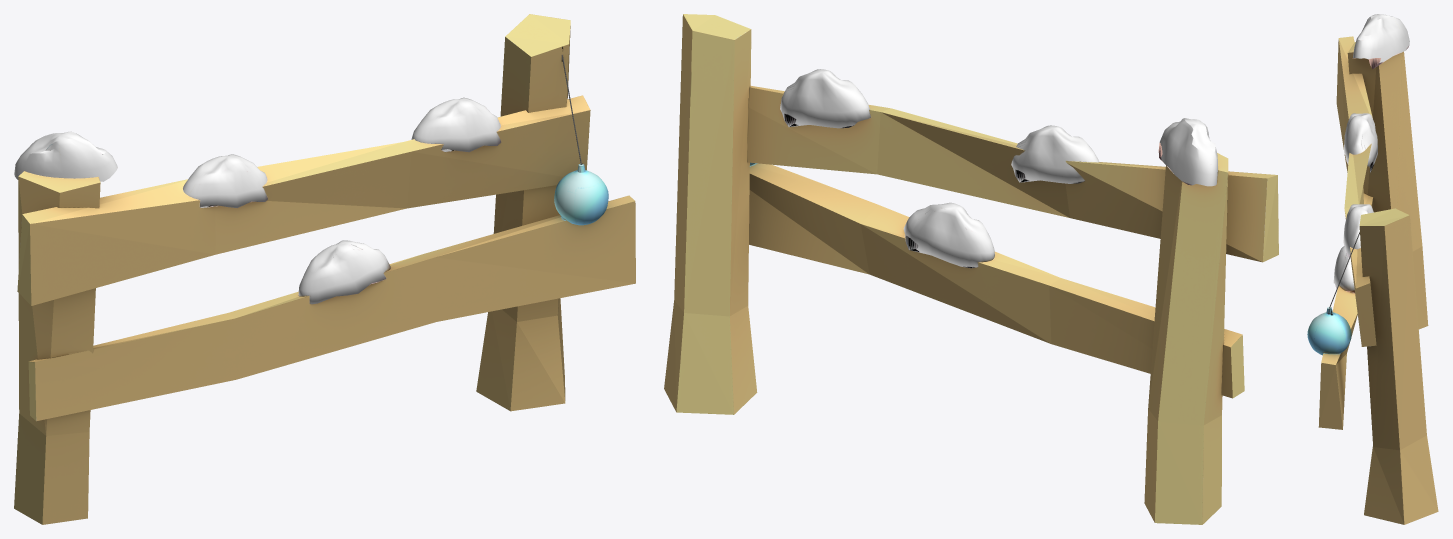
File: Fence.fbx
3 views of the same model, side by side, from view 1: azimuth 30°, elevation 25°; view 2: azimuth 150°, elevation 25°; view 3: azimuth 270°, elevation 25° (orthographic). The views are drawn at different scales.
Parts seen in each view (by area): view 1: Bake fence; view 2: Bake fence; view 3: Bake fence.
Part boxes in pixels (x1,y1,x2,y2): Bake fence: [14, 14, 635, 524]; Bake fence: [664, 14, 1278, 524]; Bake fence: [1307, 14, 1438, 524].
Bounding box in the file's own units: 259 × 159 × 61.4.
